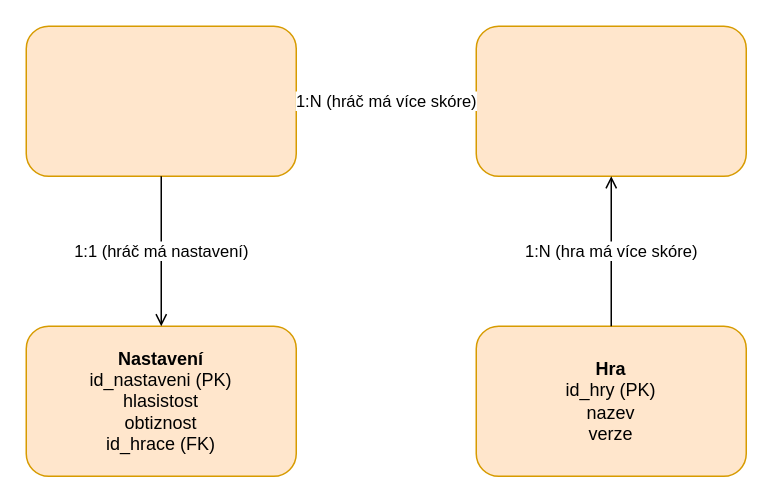
Some shapes in this 773 by 503 pixel diagram are drawn without their labels. Here are the shapes that lost their labels. From the top down, the centre of each, then its label:
[160,100]: Hráč id_hrace (PK) jmeno datum_registrace
[610,100]: Skóre id_skore (PK) hodnota datum id_hrace (FK)
